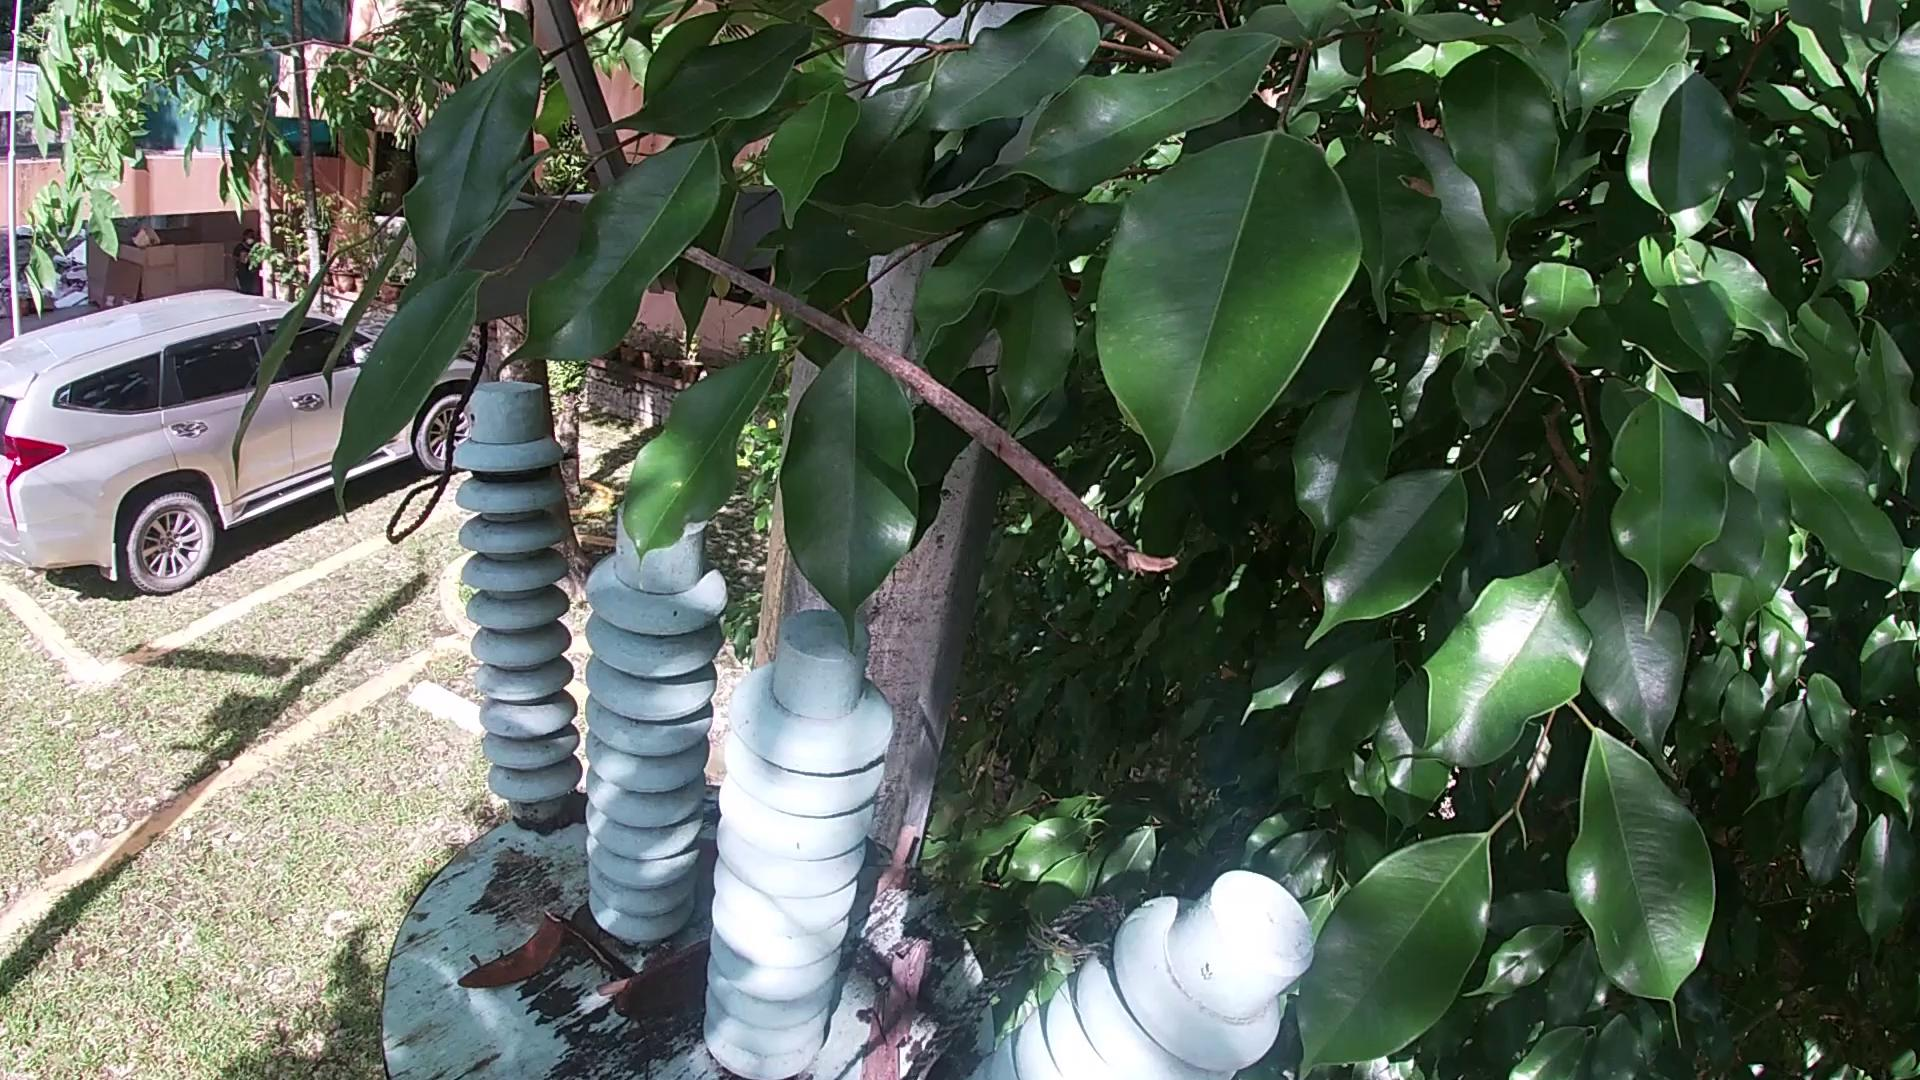leaf: (578, 916, 624, 985)
mahogany fruit: (597, 942, 720, 1042), (450, 909, 560, 997)
tree branch: (517, 179, 1213, 604), (849, 932, 939, 1080), (853, 819, 927, 905), (855, 872, 914, 890), (694, 836, 713, 880), (600, 980, 616, 1004)
